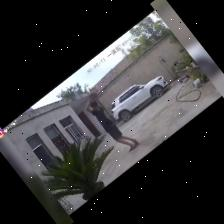person: (86, 92, 139, 151)
